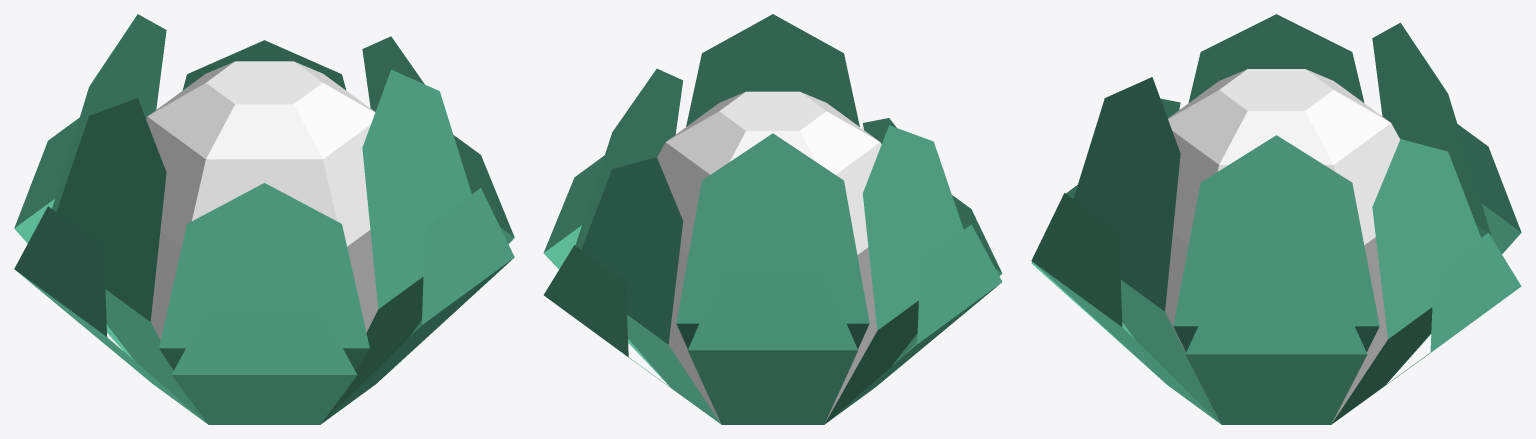
Rendered from cauliflower.fbx.
3 views of the same model, side by side, from view 1: azimuth 30°, elevation 25°; view 2: azimuth 150°, elevation 25°; view 3: azimuth 270°, elevation 25° (orthographic). The views are drawn at different scales.
Visible parts, largest first — view 1: cauliflower; view 2: cauliflower; view 3: cauliflower.
Boxes of the visible parts, box(x1,y1,x2,y2) form: cauliflower: box(14, 14, 514, 424); cauliflower: box(543, 14, 1002, 424); cauliflower: box(1031, 14, 1521, 424).
Size of the model in its own units: 3.79 by 3.07 by 4.04.
